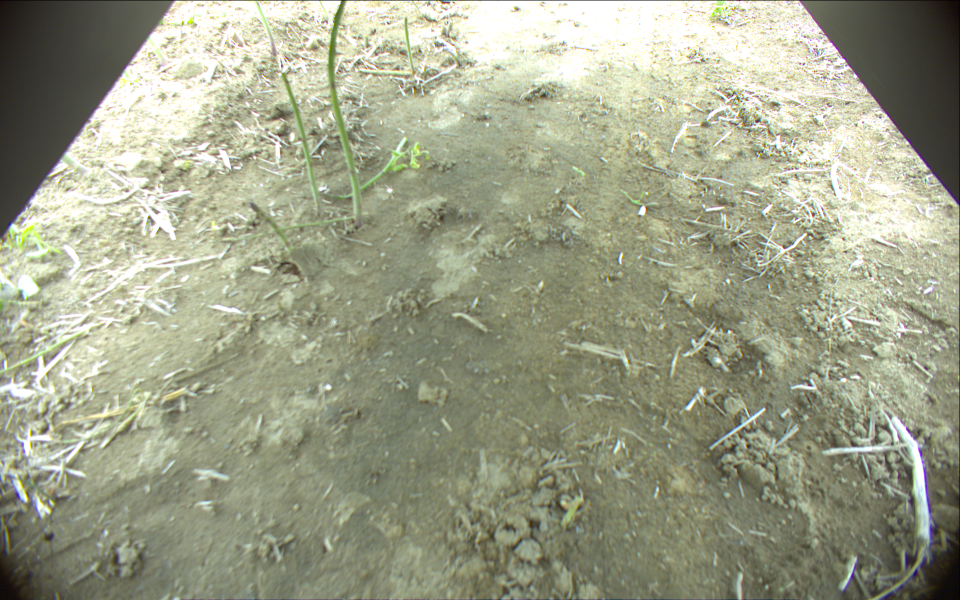aspa: (324, 1, 363, 227), (281, 71, 318, 211), (332, 136, 405, 197), (224, 214, 362, 243), (1, 329, 88, 374), (249, 200, 289, 255), (251, 1, 276, 51), (404, 17, 416, 75), (358, 66, 413, 77)
